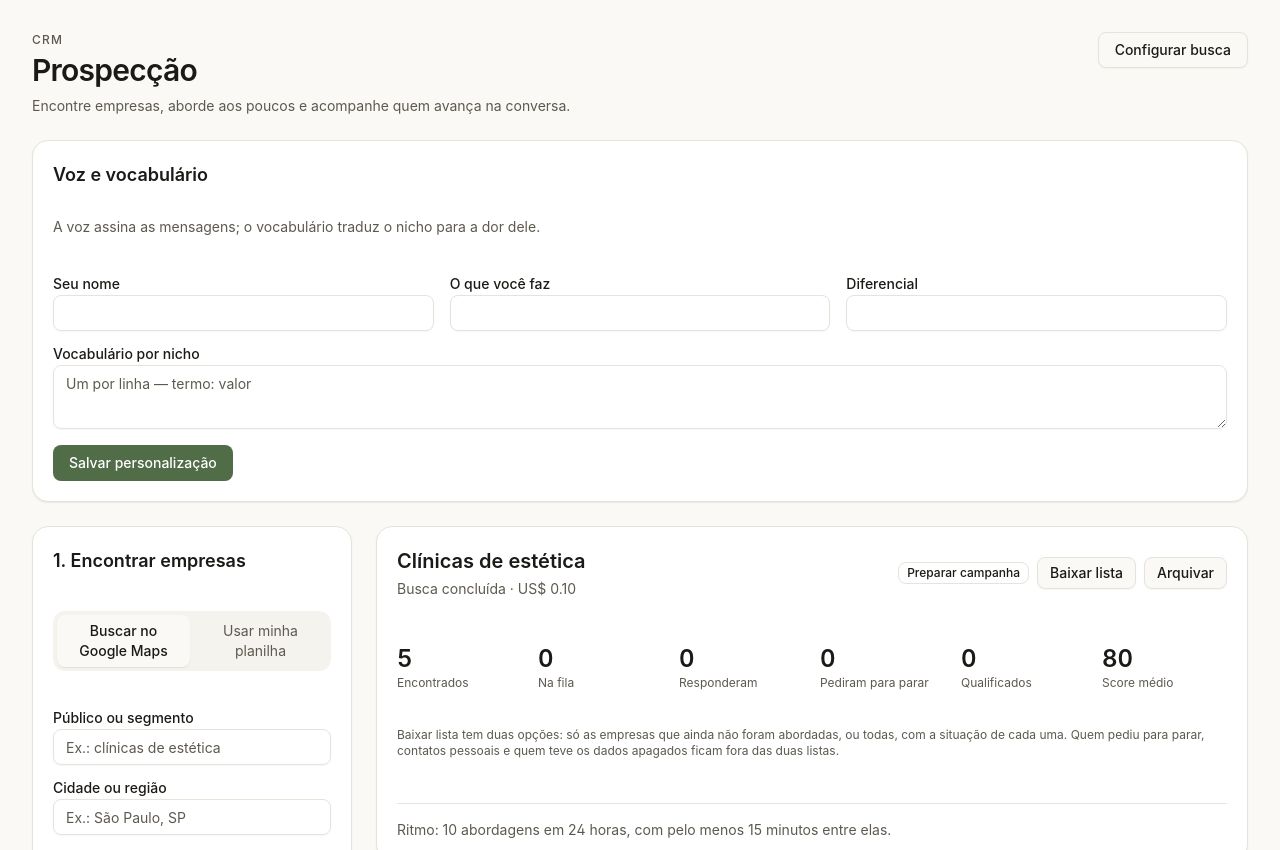
Scenario: voz e vocabulário à vista (issue #4360) › salva pelo MESMO PATCH por organização (sem endpoint novo)
Type "Marcos" into the field labelled "Seu nome" at point(243, 313), box x1=53 y1=295 x2=434 y2=331
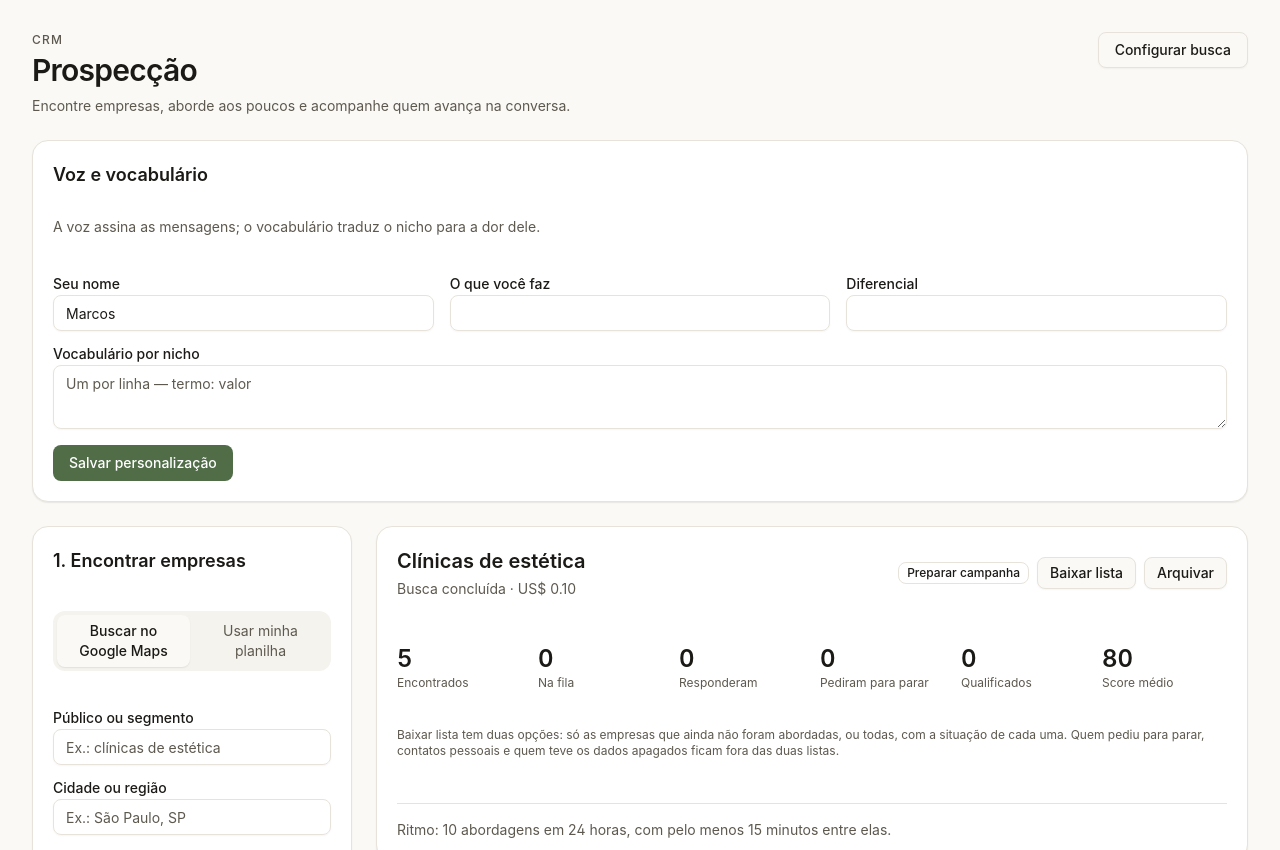
Click the button "Salvar personalização" at point(143, 463), box x1=53 y1=445 x2=233 y2=481
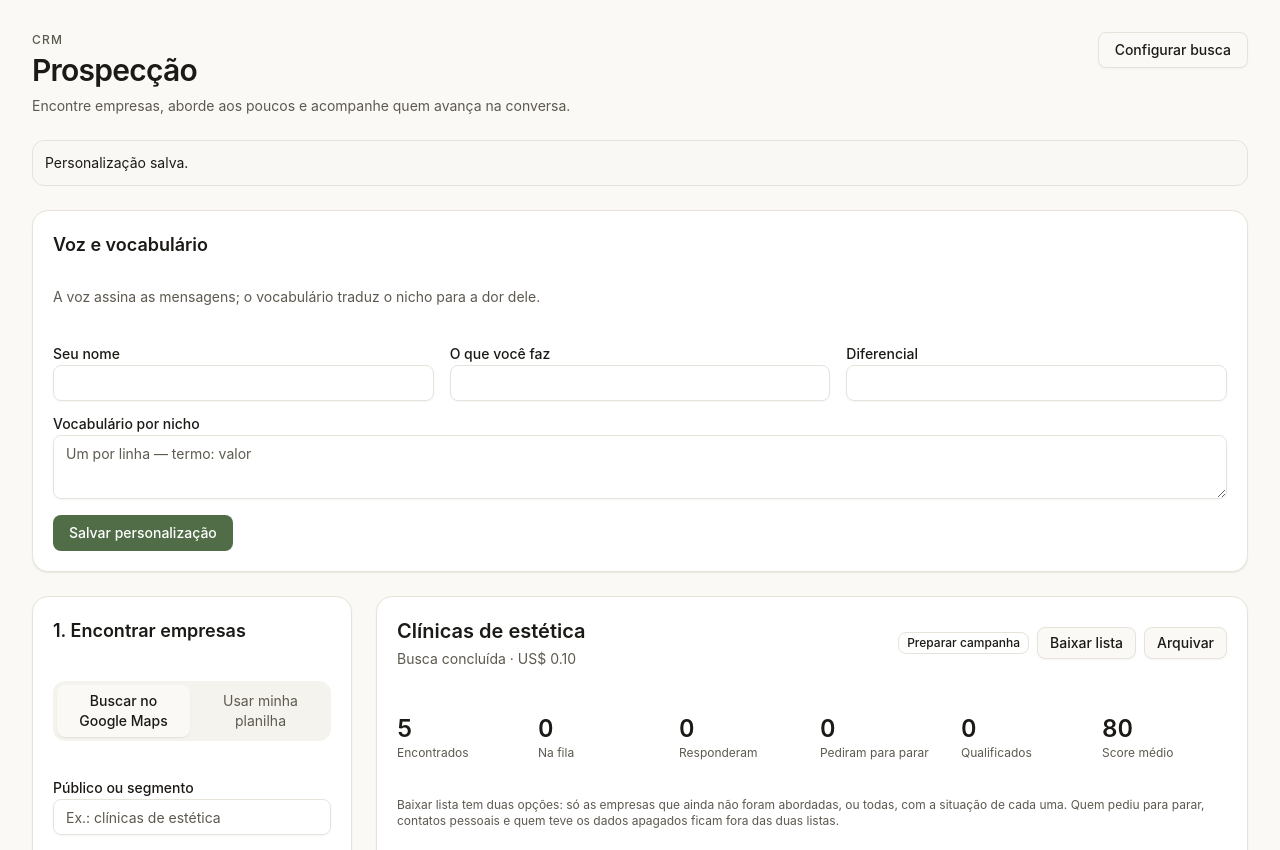
Expected: the text "Personalização salva." is shown, x1=32 y1=140 x2=1248 y2=186
